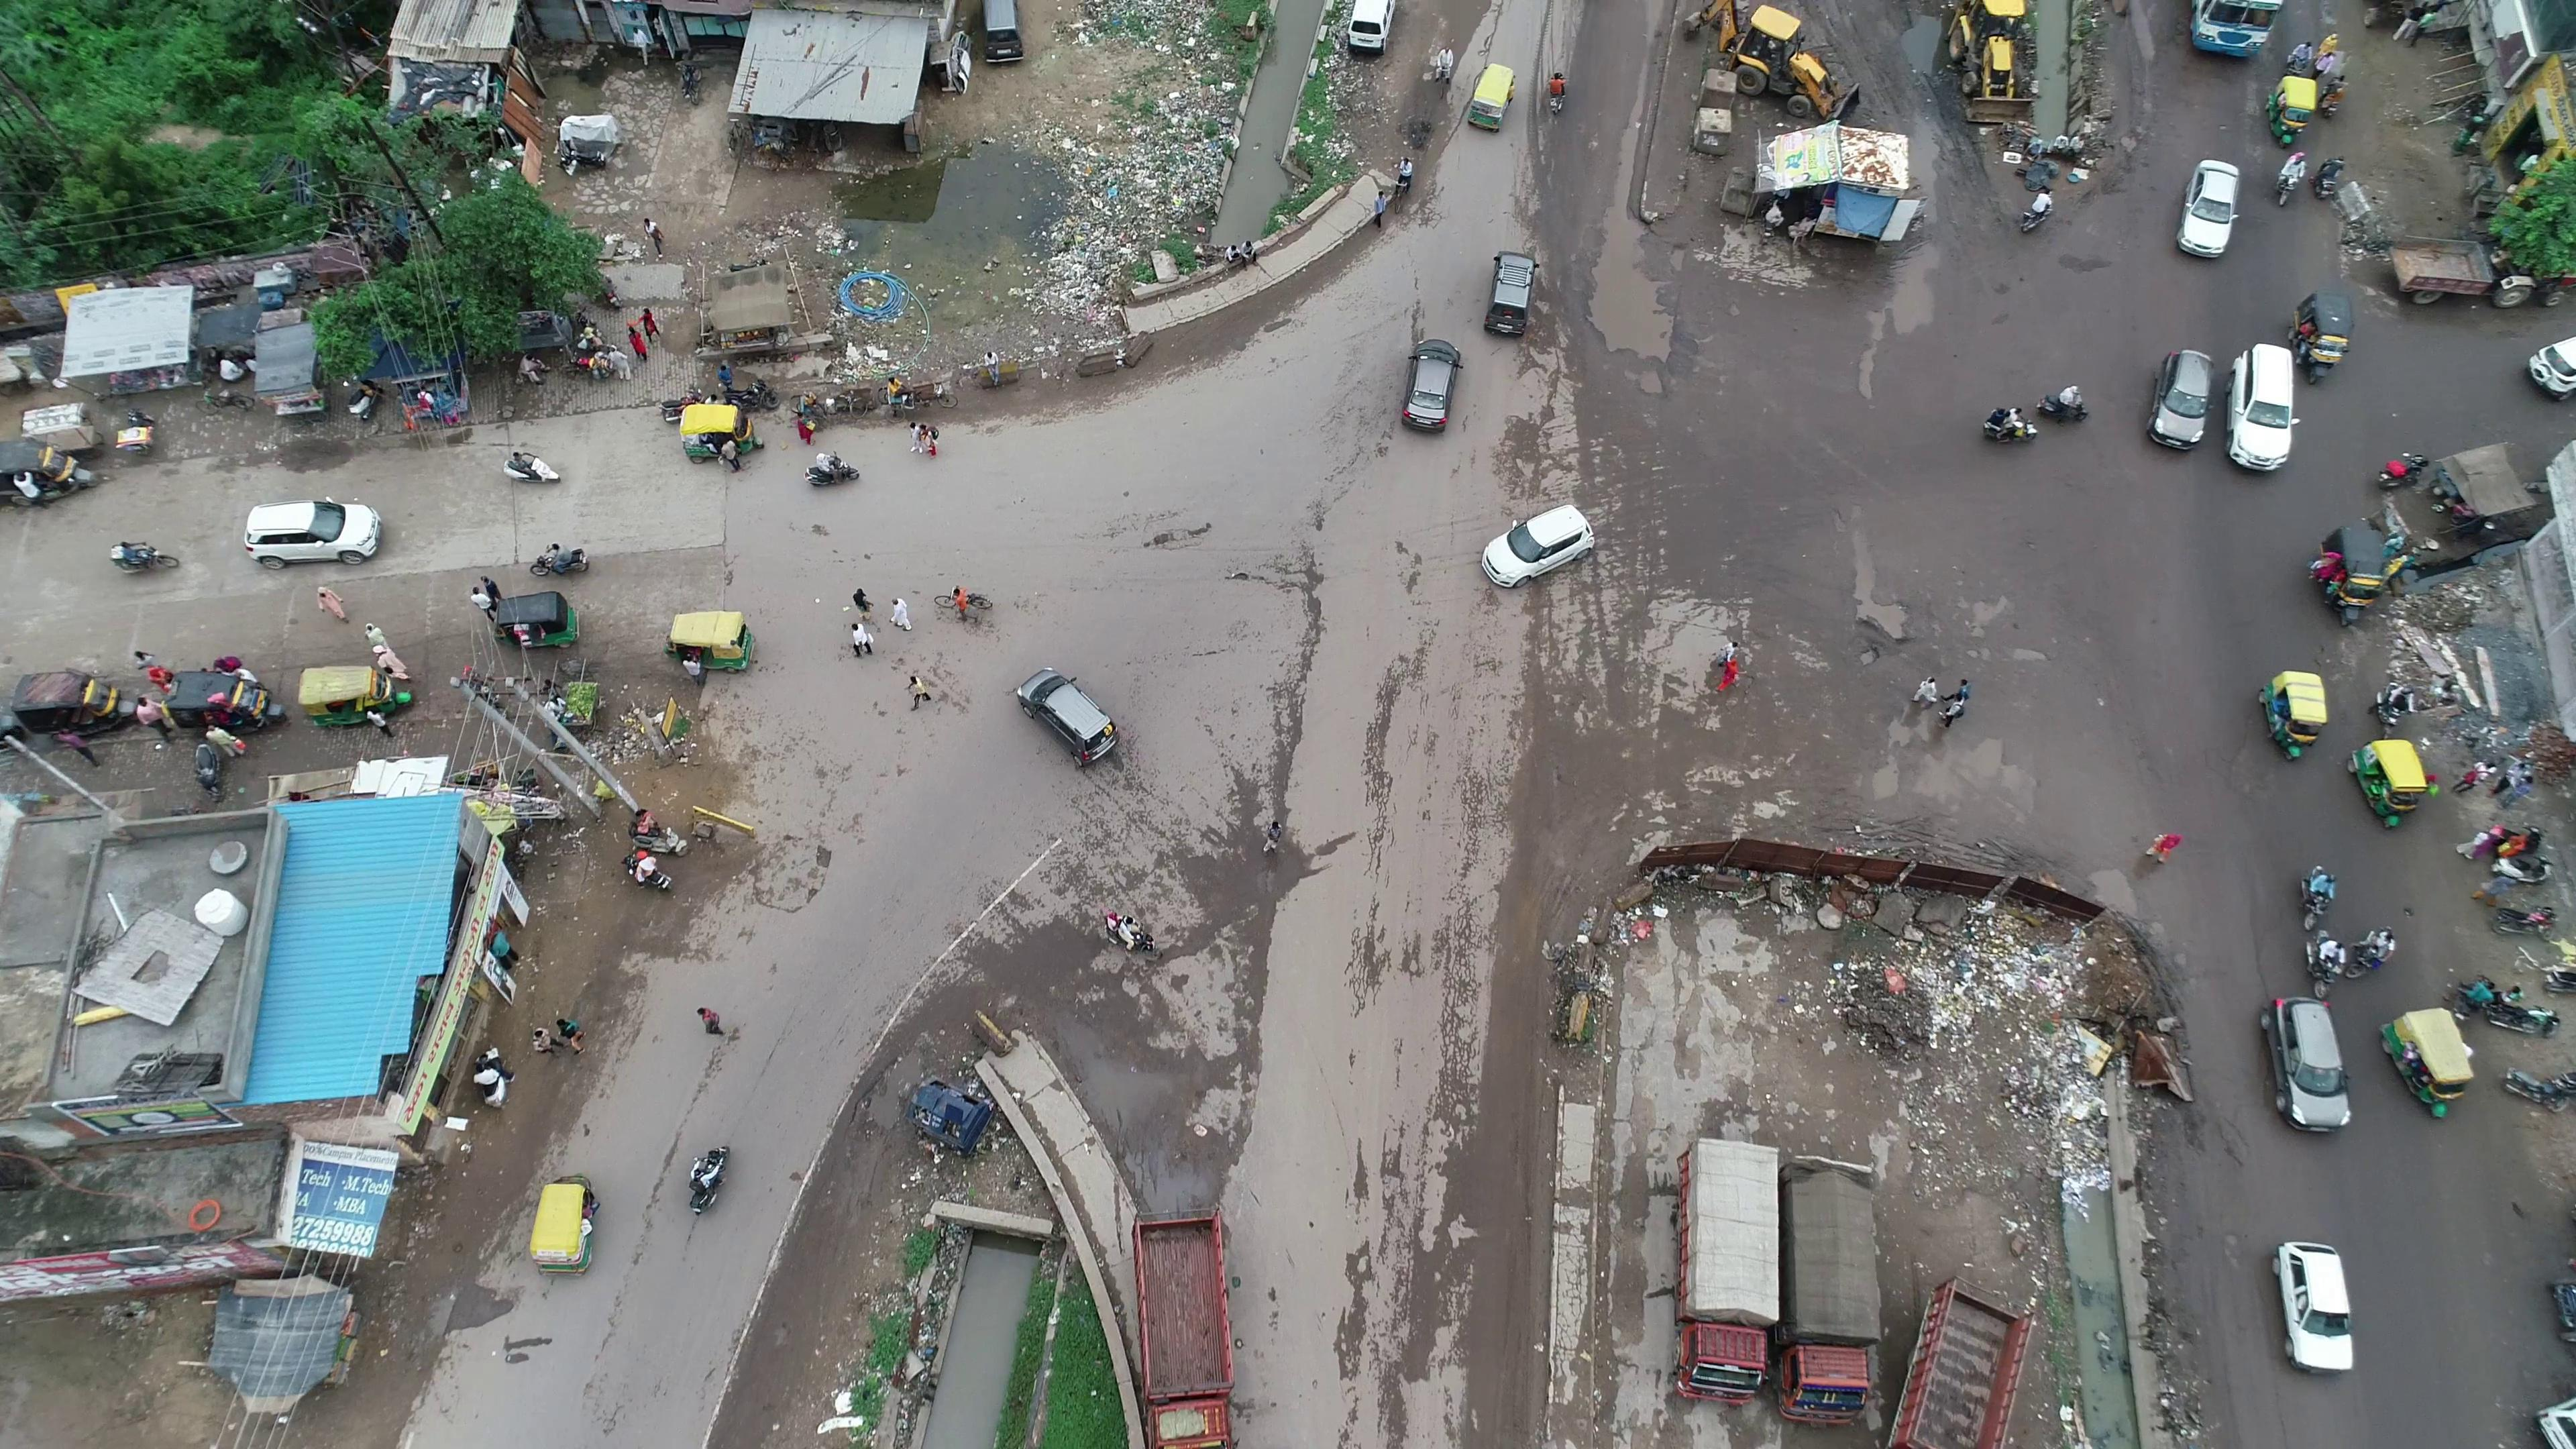Potholes: (1819, 552, 2095, 688)
